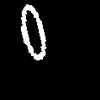chain: (21, 5, 45, 59)
